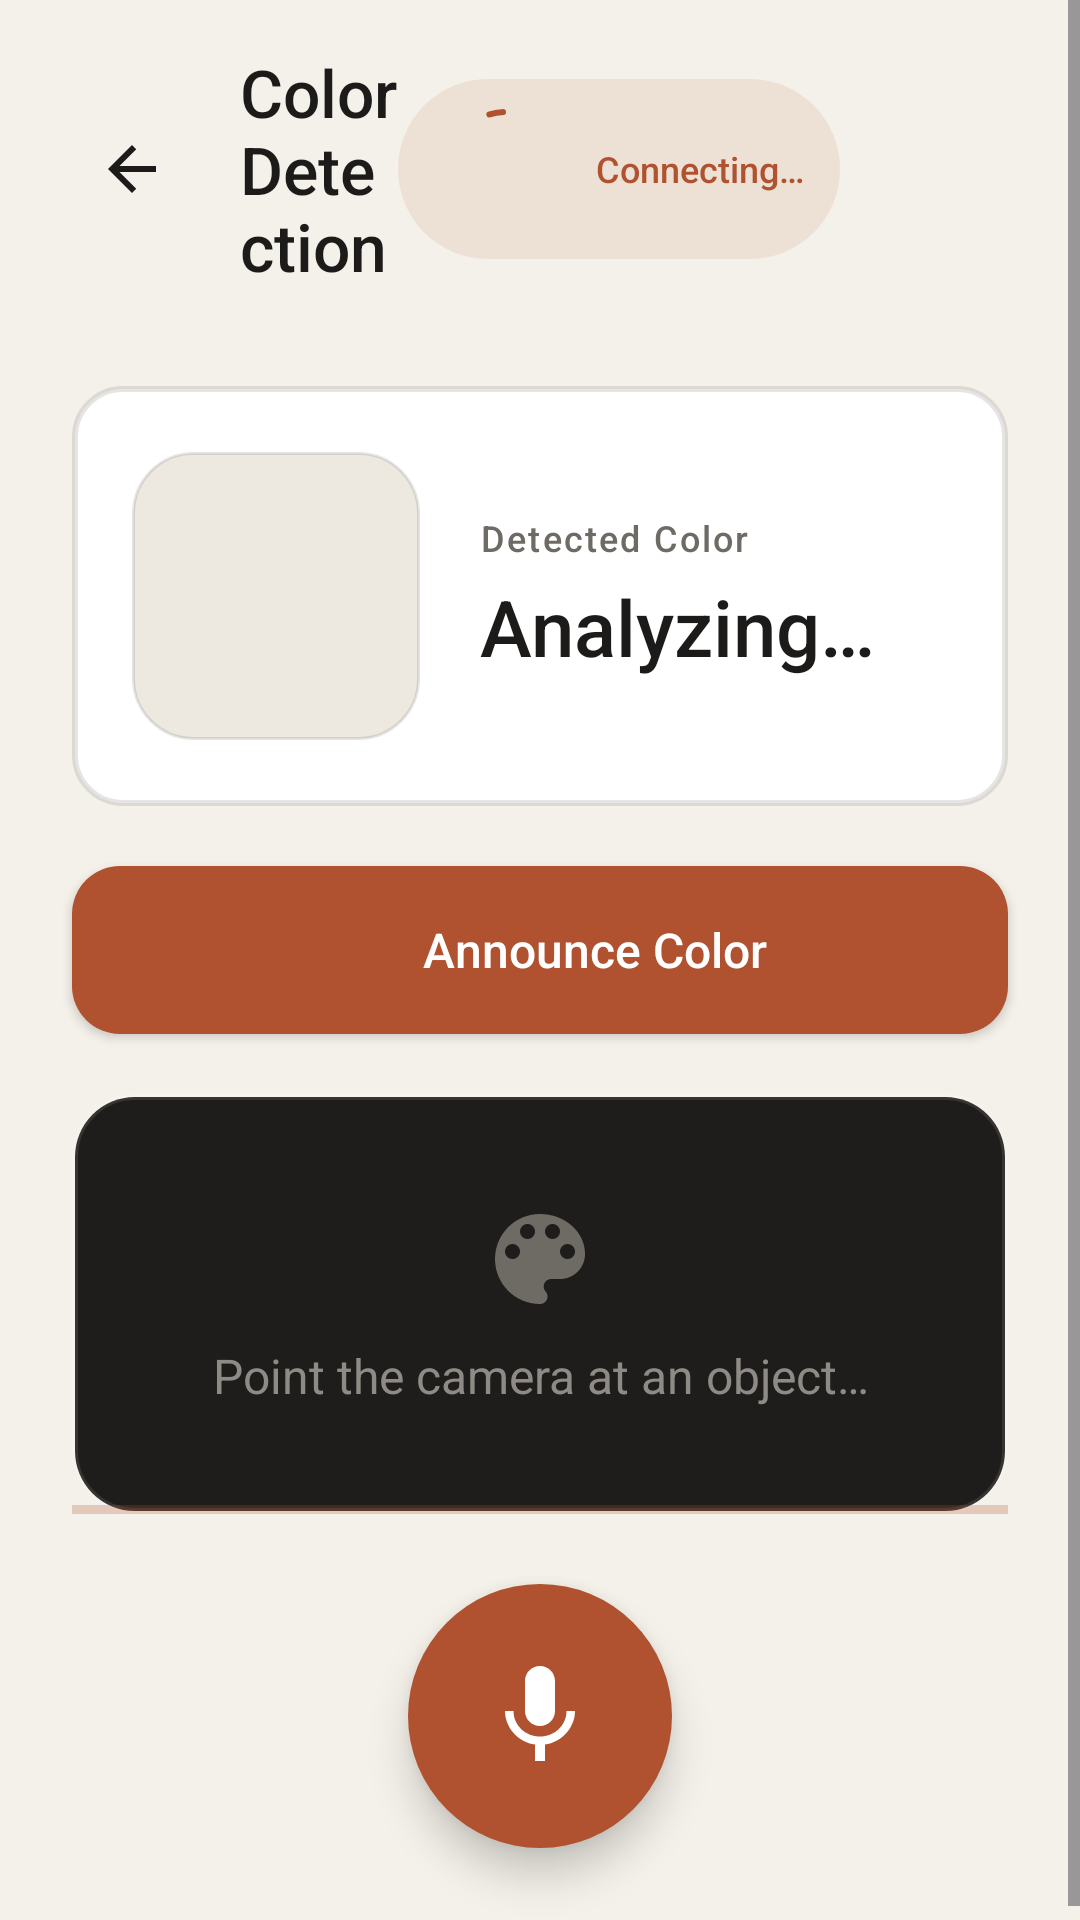

Screen size 1080 x 1920. Icon name, then its box in pixels as (x1, y1, x2, y2):
Go back to dashboard: (108, 145, 156, 193)
Speak a command. Tap, then say what you need: (408, 1584, 672, 1848)
